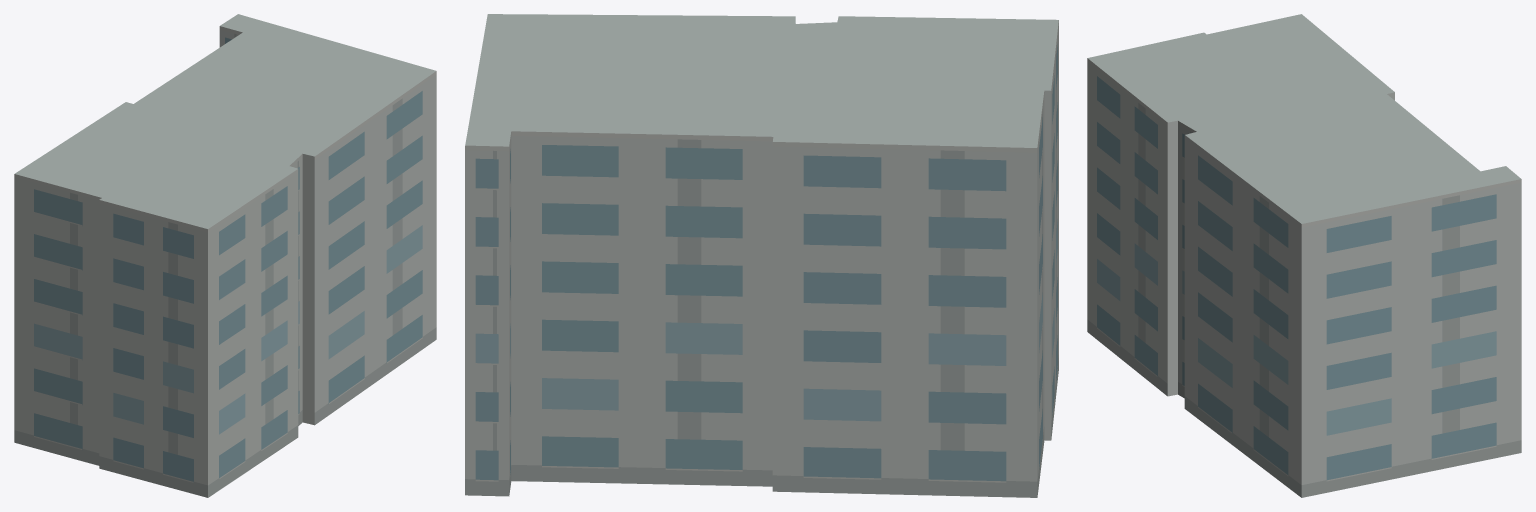
Rendered from survey-upis-33007753.glb.
3 renders of one model, left to right at view 1: azimuth 30°, elevation 25°; view 2: azimuth 150°, elevation 25°; view 3: azimuth 270°, elevation 25°, orthographic. The views are drawn at different scales.
Visible parts, largest first — view 1: survey-upis-33007753.tmp; view 2: survey-upis-33007753.tmp; view 3: survey-upis-33007753.tmp.
Part boxes in pixels (left/top/right/bottom): survey-upis-33007753.tmp: left=14, top=14, right=436, bottom=497; survey-upis-33007753.tmp: left=465, top=14, right=1058, bottom=497; survey-upis-33007753.tmp: left=1087, top=14, right=1521, bottom=497.
Bounding box in the file's own units: 30.59 × 18.6 × 26.73.
